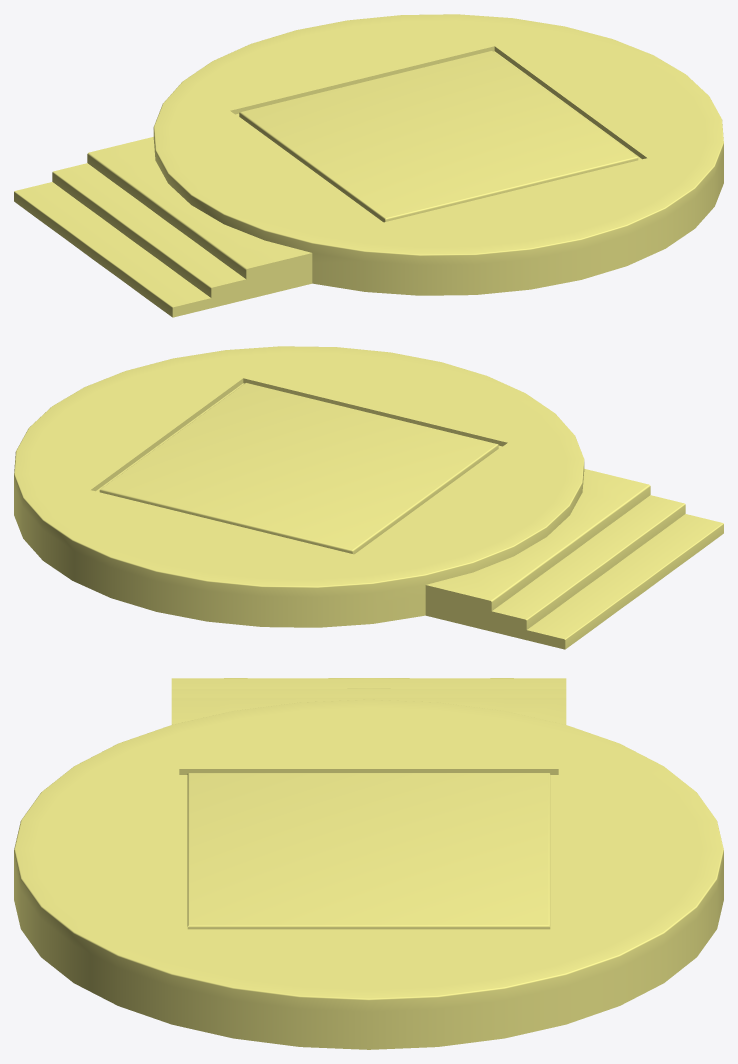
Rendered from PLATFORM.fbx.
3 views of the same model, one above another, from view 1: azimuth 30°, elevation 25°; view 2: azimuth 150°, elevation 25°; view 3: azimuth 270°, elevation 25° (orthographic). The views are drawn at different scales.
Visible parts, largest first — view 1: Circle; view 2: Circle; view 3: Circle.
Part boxes in pixels (<box>): Circle: <box>14,14,723,317</box>; Circle: <box>14,346,723,649</box>; Circle: <box>14,678,723,1049</box>.
Size of the model in its own units: 1372 by 90.25 by 1145.
